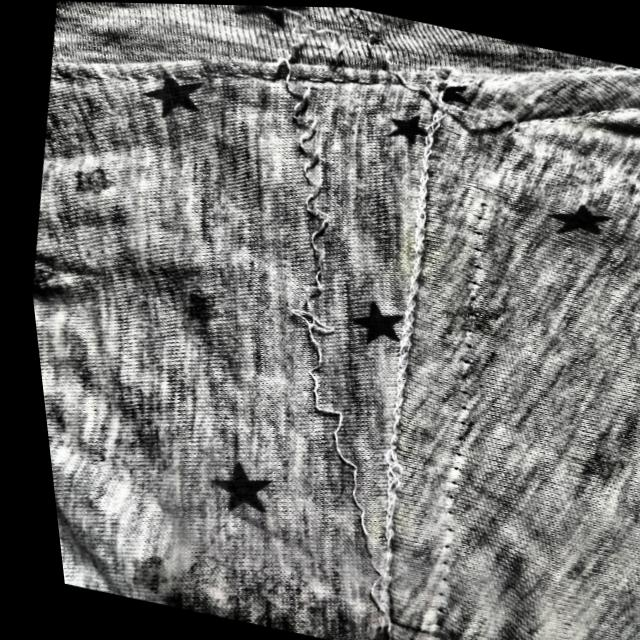Stitch: (247, 360, 425, 615), (197, 18, 376, 261), (394, 170, 543, 373), (267, 596, 478, 640)
